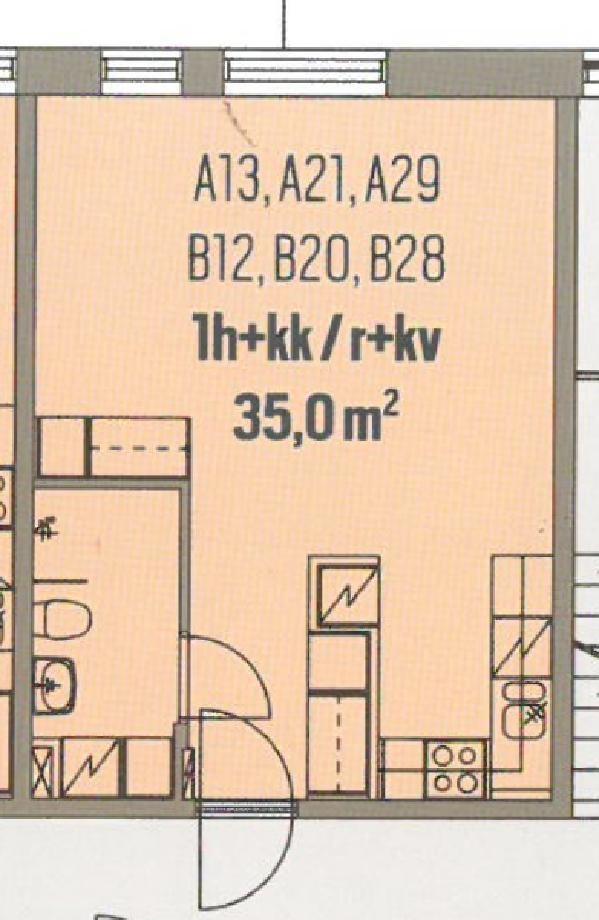door: (194, 705, 299, 915), (174, 632, 284, 729)
window: (223, 51, 387, 93), (103, 49, 183, 93)
zone: (43, 93, 548, 795), (38, 484, 170, 797)
